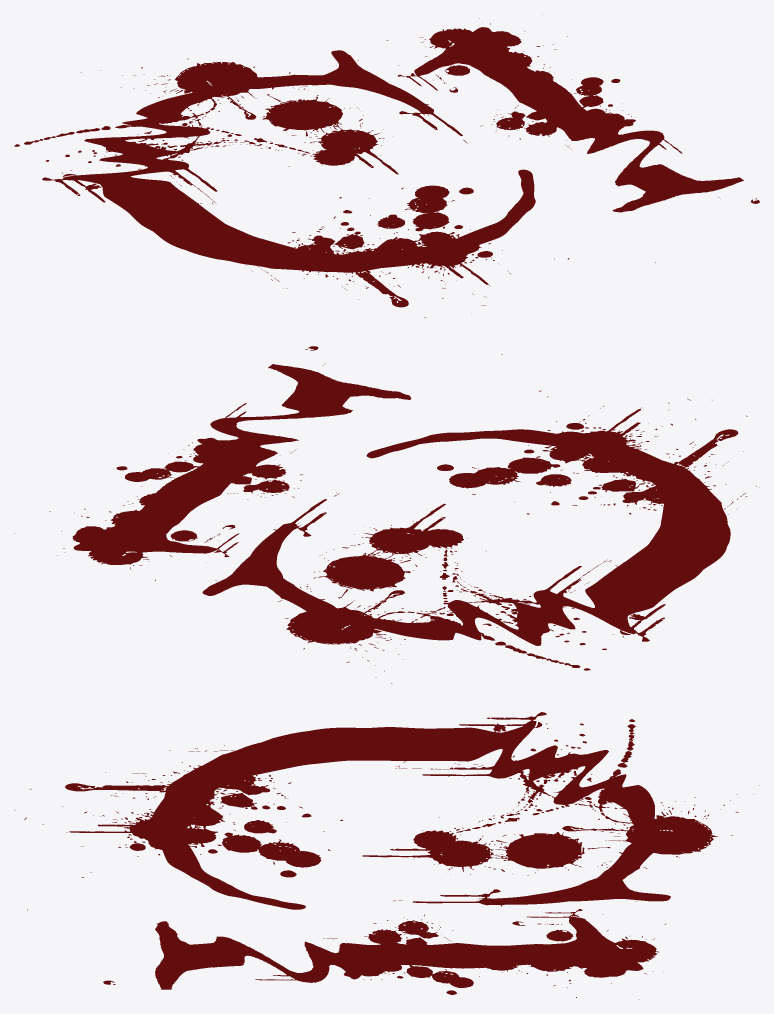
The picture shows the model from 3 angles, top to bottom: view 1: azimuth 30°, elevation 25°; view 2: azimuth 150°, elevation 25°; view 3: azimuth 270°, elevation 25°; orthographic projection. The views are drawn at different scales.
Visible parts, largest first — view 1: Text; view 2: Text; view 3: Text.
Boxes of the visible parts, bbox=[...] form: Text: bbox=[14, 18, 759, 317]; Text: bbox=[14, 346, 759, 683]; Text: bbox=[14, 712, 759, 999].
Size of the model in its own units: 14.96 by 2.67e-06 by 16.39.
